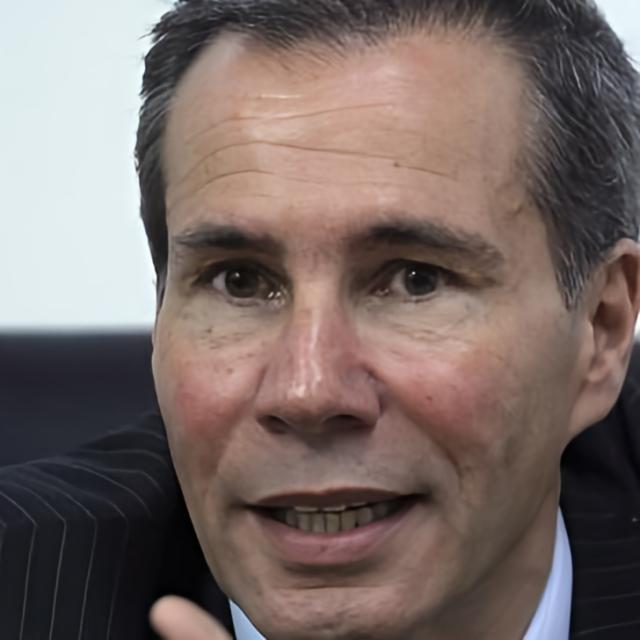surprise: (149, 0, 576, 640)
